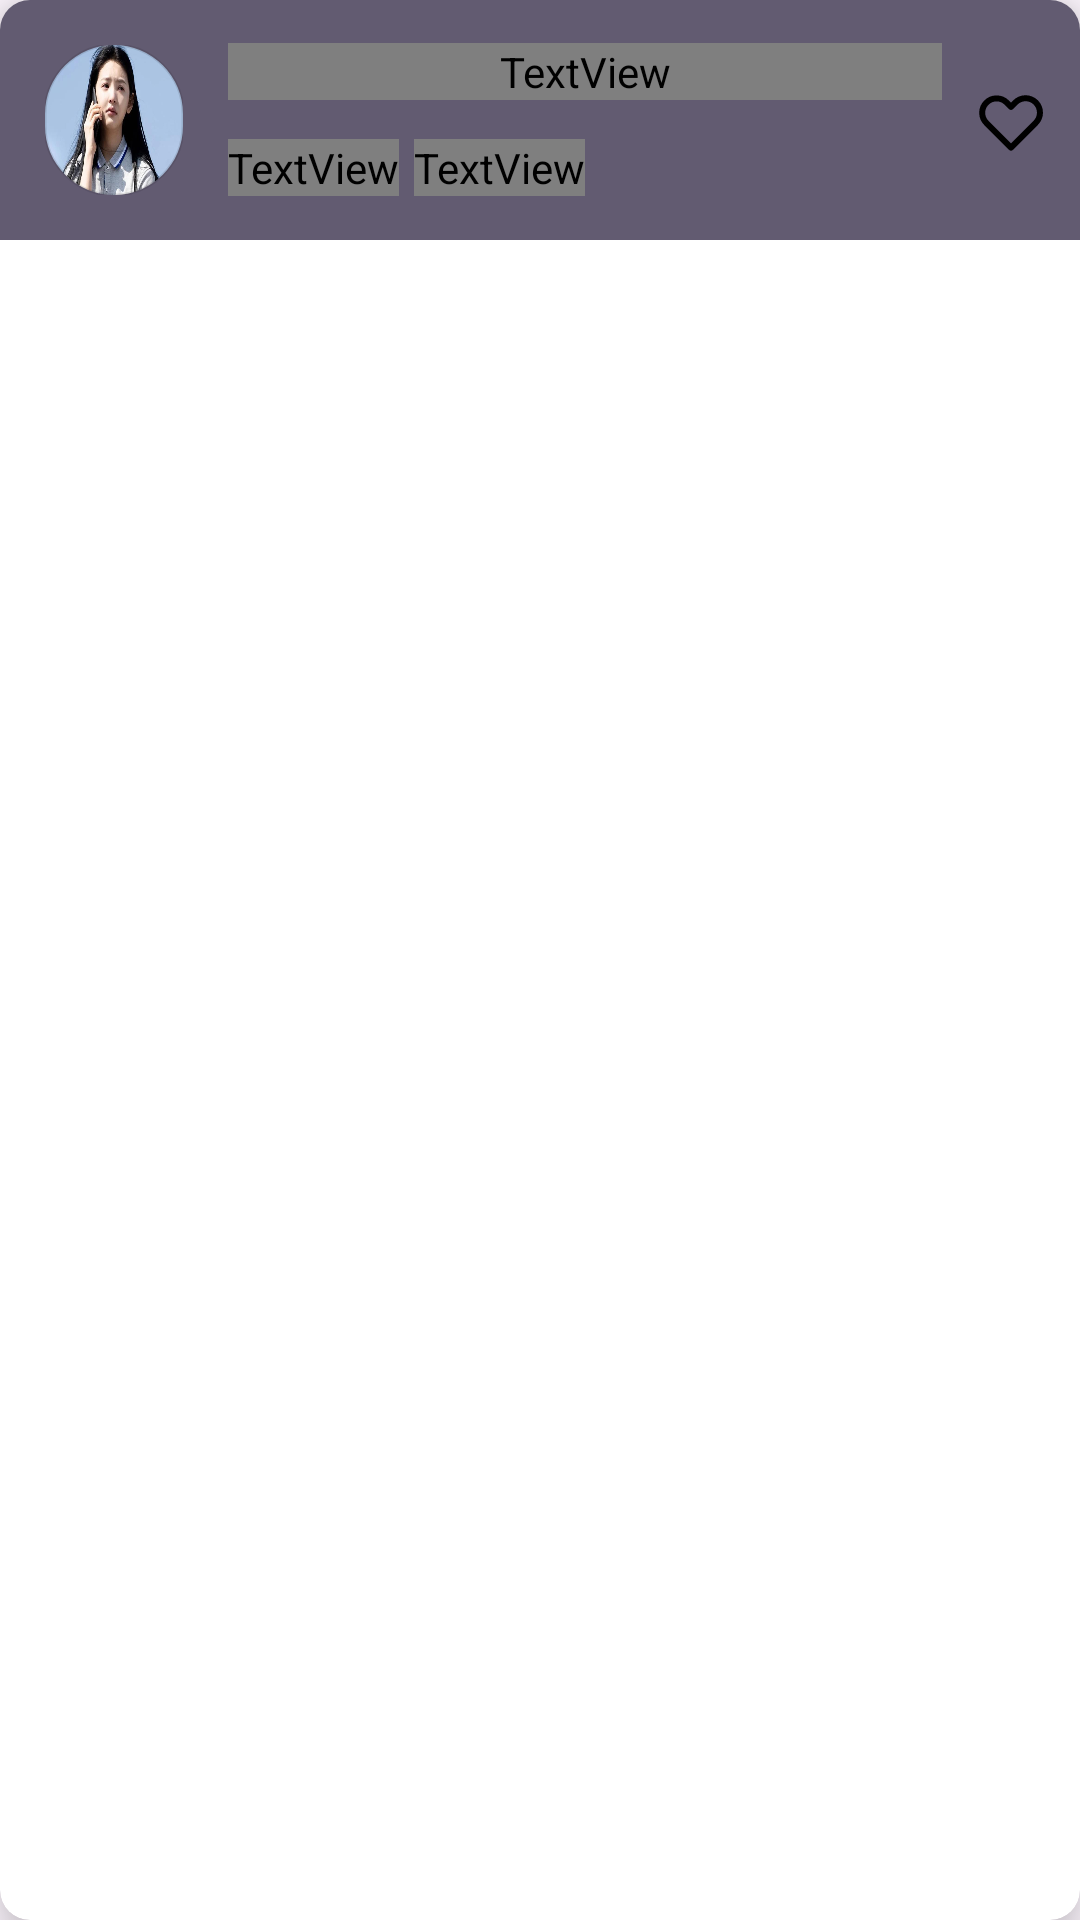

Named icons in this screenshot (1080px×1920px) and their centers, [x,y]:
avarta: [114,120]
favorite: [1011,123]
